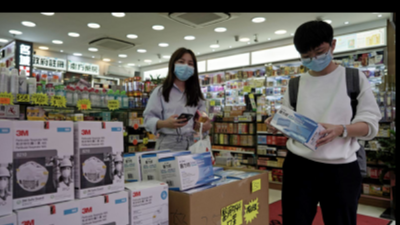with_mask: (300, 44, 333, 72), (172, 58, 195, 82)
